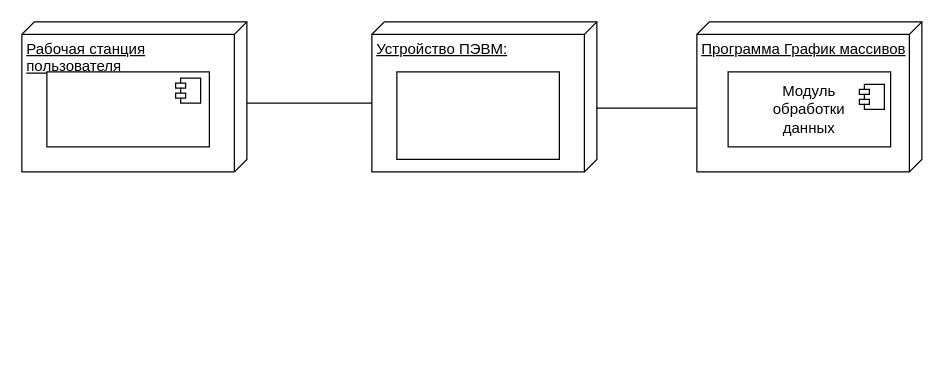
This 944x375 diagram has some shape labels left out. The shapes that lost their labels are listed below. From the top down, each one's centre as x and y in pixels, then its label:
At (127,109): "Модуль отображения графика массивов".
At (477,115): "+ОС:Windows +Программа:Visual Studio +Интернет 10 мб/с -Лицензия: необязательно".
